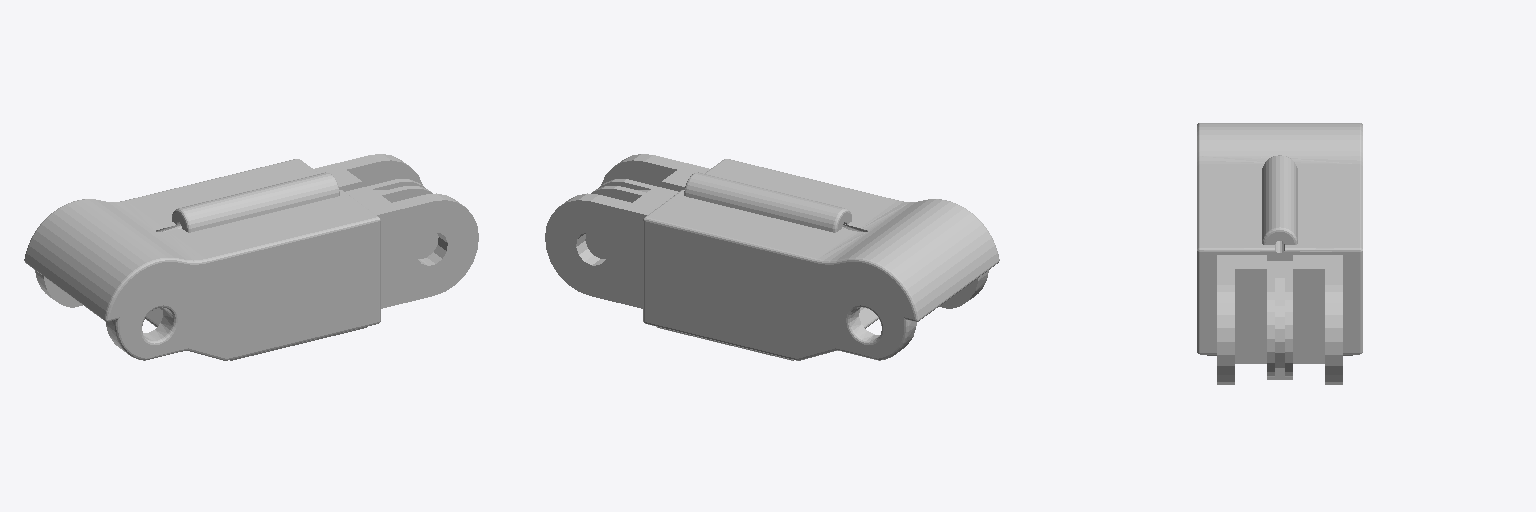
File: gripper_right_proximal_link.obj
3 renders of one model, left to right at view 1: azimuth 30°, elevation 25°; view 2: azimuth 150°, elevation 25°; view 3: azimuth 270°, elevation 25°, orthographic.
Parts seen in each view (by area): view 1: gripper_right_proximal_link; view 2: gripper_right_proximal_link; view 3: gripper_right_proximal_link.
Part boxes in pixels (x1,y1,x2,y2): gripper_right_proximal_link: (24,154,478,360); gripper_right_proximal_link: (545,154,999,360); gripper_right_proximal_link: (1197,123,1362,384).
Bounding box in the file's own units: 0.0677 × 0.0217 × 0.0254.